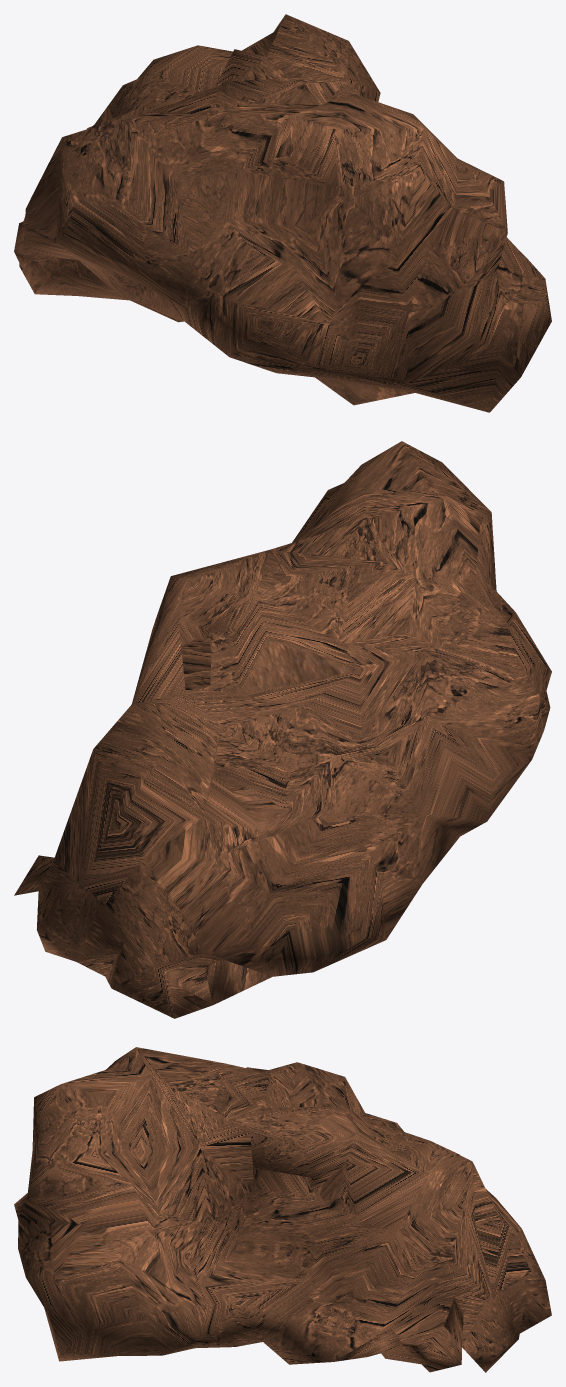
Rendered from scanned_pebbles.glb.
3 renders of one model, top to bottom at view 1: azimuth 30°, elevation 25°; view 2: azimuth 150°, elevation 25°; view 3: azimuth 270°, elevation 25°, orthographic. The views are drawn at different scales.
Visible parts, largest first — view 1: boulder_01; view 2: boulder_01; view 3: boulder_01.
Boxes of the visible parts, box(x1,y1,x2,y2) form: boulder_01: box(14, 14, 551, 412); boulder_01: box(14, 441, 551, 1018); boulder_01: box(14, 1047, 551, 1372).
Size of the model in its own units: 1.27 by 0.974 by 1.78.
Materials: 1 (1 with a texture image).
